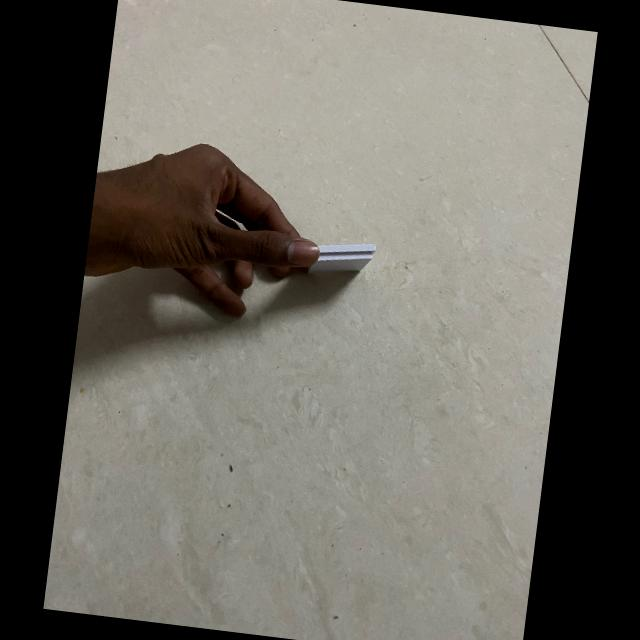RASPBERY PI CAM ENCLOSURE: (307, 235, 376, 281)
